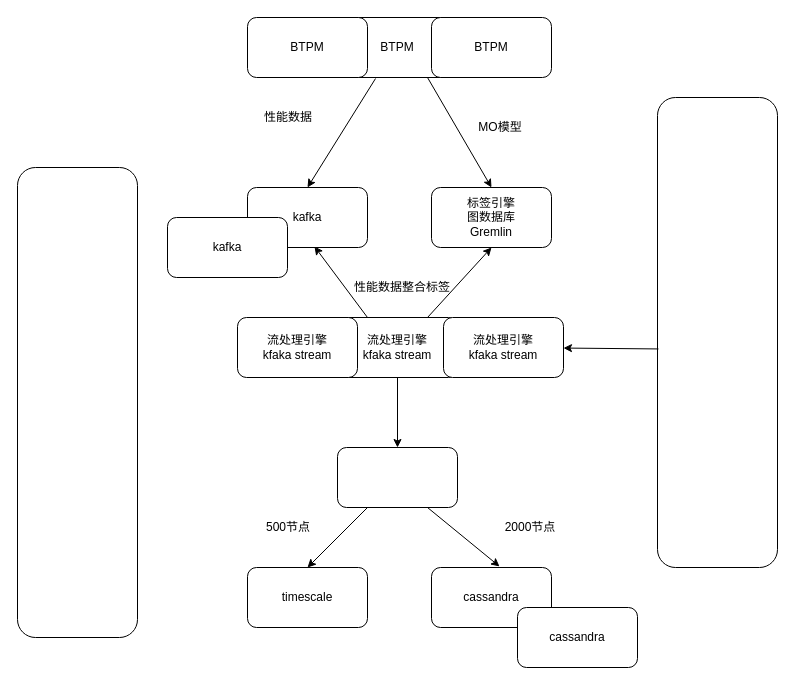
This 795x685 diagram has some shape labels left out. Each missing label, with the centre of its shape:
"历史性能查询 非归并数据业务报表 性能异常分析" belongs at point (77, 402).
"实时报表 dashboard 性能数据归并 多指标综合告警" belongs at point (717, 332).
"时序数据引擎" belongs at point (397, 477).
